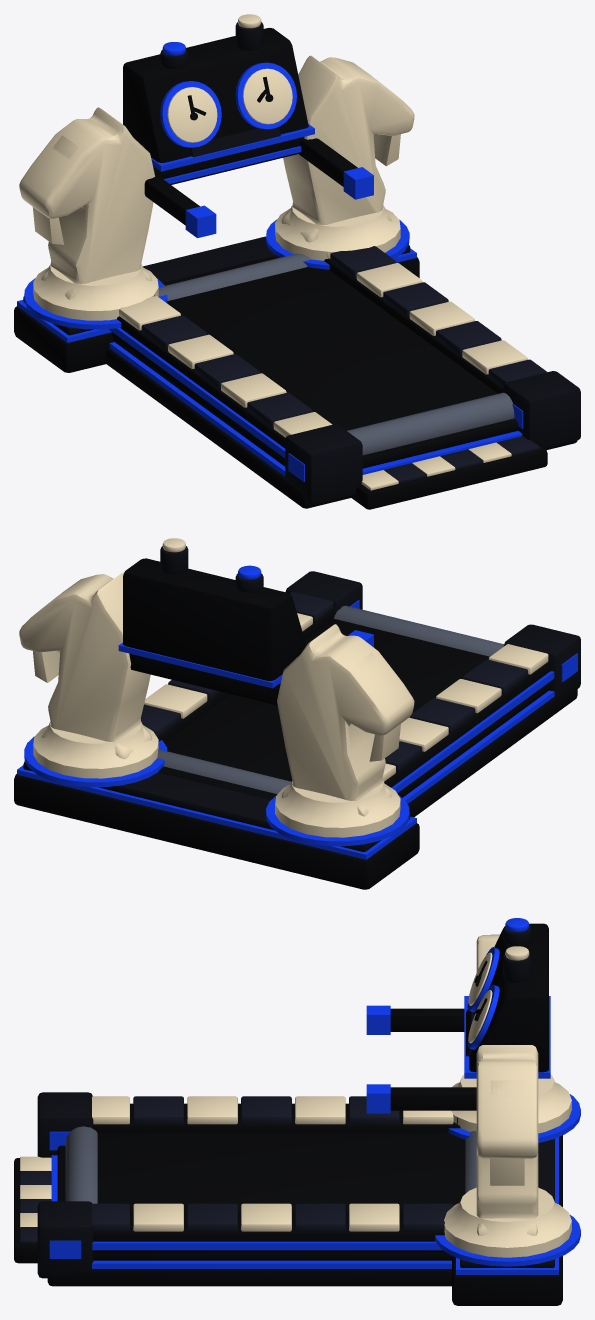
File: KnightSprint.obj
3 views of the same model, one above another, from view 1: azimuth 30°, elevation 25°; view 2: azimuth 150°, elevation 25°; view 3: azimuth 270°, elevation 25° (orthographic). The views are drawn at different scales.
Visible parts, largest first — view 1: KnightSprint_Chess, KnightSprint_Body, KnightSprint_Belt, KnightSprint_Neon, KnightSprint_Panel, KnightSprint_Square, KnightSprint_Steel; view 2: KnightSprint_Chess, KnightSprint_Body, KnightSprint_Belt, KnightSprint_Neon, KnightSprint_Panel, KnightSprint_Square, KnightSprint_Steel; view 3: KnightSprint_Body, KnightSprint_Chess, KnightSprint_Belt, KnightSprint_Neon, KnightSprint_Square, KnightSprint_Panel, KnightSprint_Steel.
Boxes of the visible parts, box(x1,y1,x2,y2) form: KnightSprint_Chess: box(19, 14, 527, 490); KnightSprint_Body: box(14, 28, 577, 509); KnightSprint_Belt: box(162, 255, 497, 430); KnightSprint_Neon: box(17, 42, 523, 481); KnightSprint_Panel: box(23, 22, 580, 504); KnightSprint_Square: box(141, 246, 547, 483); KnightSprint_Steel: box(158, 253, 514, 455); KnightSprint_Chess: box(19, 538, 548, 837); KnightSprint_Body: box(14, 558, 577, 889); KnightSprint_Belt: box(158, 619, 489, 799); KnightSprint_Neon: box(17, 565, 577, 859); KnightSprint_Panel: box(23, 546, 580, 851); KnightSprint_Square: box(140, 591, 527, 770); KnightSprint_Steel: box(157, 605, 503, 793); KnightSprint_Body: box(14, 923, 562, 1305); KnightSprint_Chess: box(20, 934, 571, 1257); KnightSprint_Belt: box(97, 1133, 465, 1210); KnightSprint_Neon: box(49, 918, 580, 1274); KnightSprint_Square: box(20, 1096, 457, 1243); KnightSprint_Panel: box(37, 926, 554, 1278); KnightSprint_Steel: box(65, 1126, 476, 1203).
Bounding box in the file's own units: 11 × 8.01 × 14.31.
